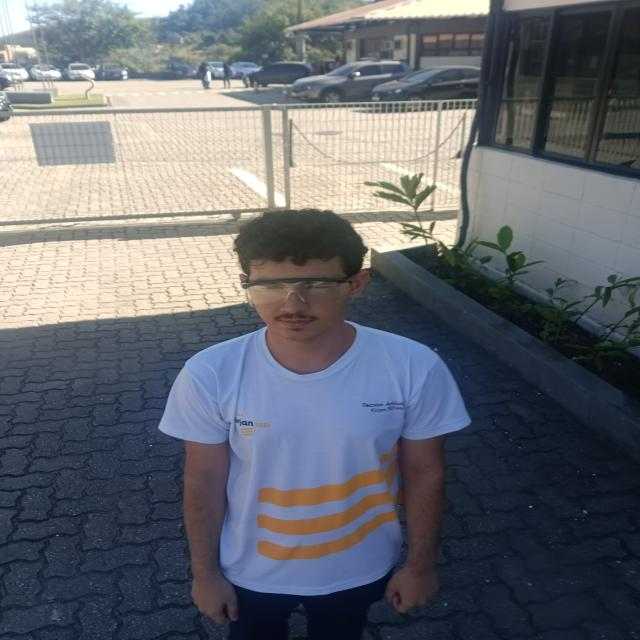oculos-epi: (238, 277, 354, 311)
